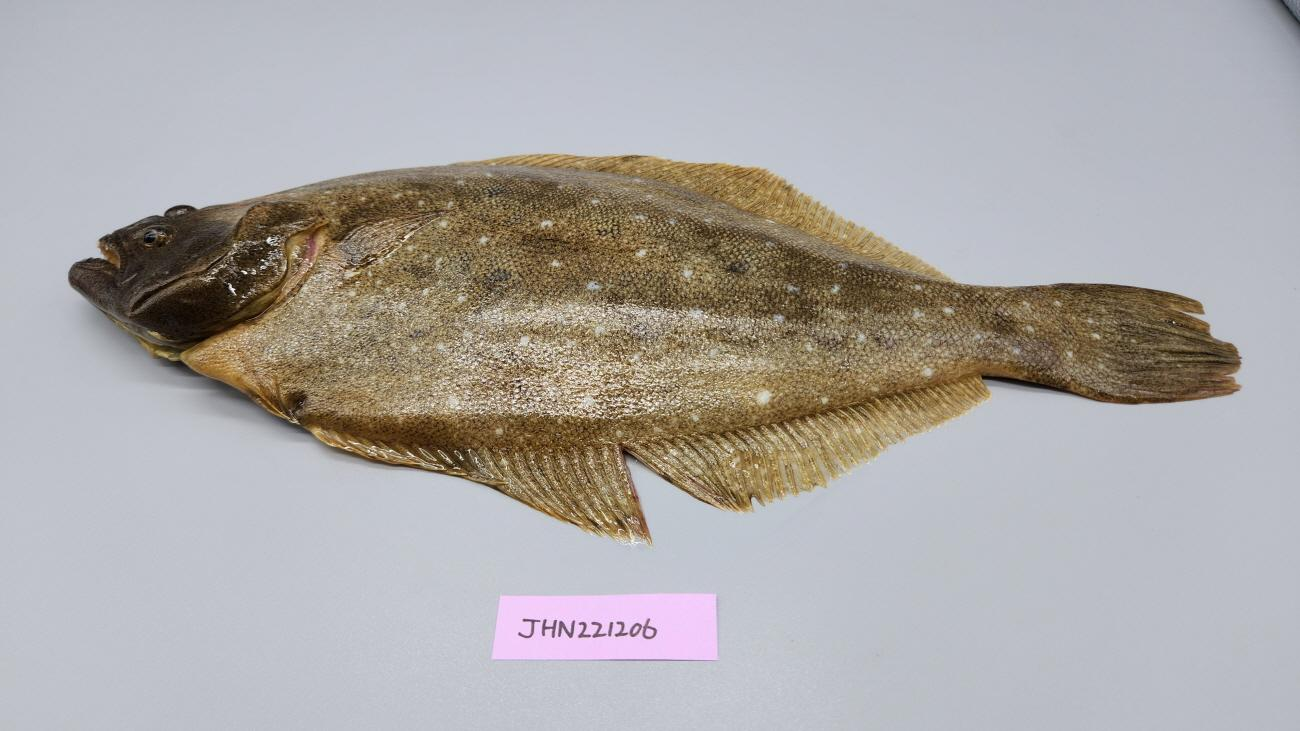POOUN: (66, 154, 1244, 548)
